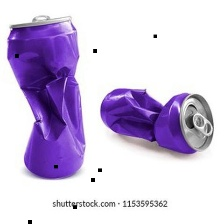can: (4, 13, 93, 184), (96, 77, 220, 154)
